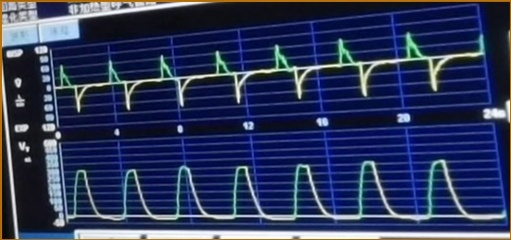Accumulation Flow: (57, 33, 479, 111)
Volume: (66, 157, 494, 228)
